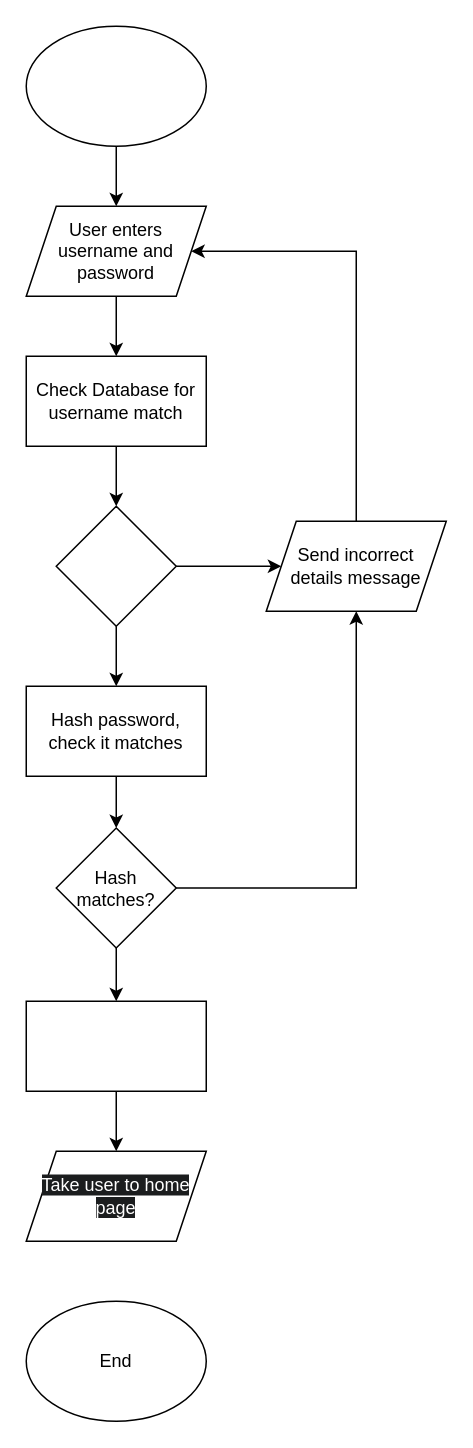
Some shapes in this 473 by 1448 pixel diagram are drawn without their labels. The centre of each missing label's shape, as x and y in pixels:
"Form Loaded" belongs at (115,85).
"Generate session token and save to user's browser" belongs at (115,1045).
"User exists?" belongs at (115,565).
